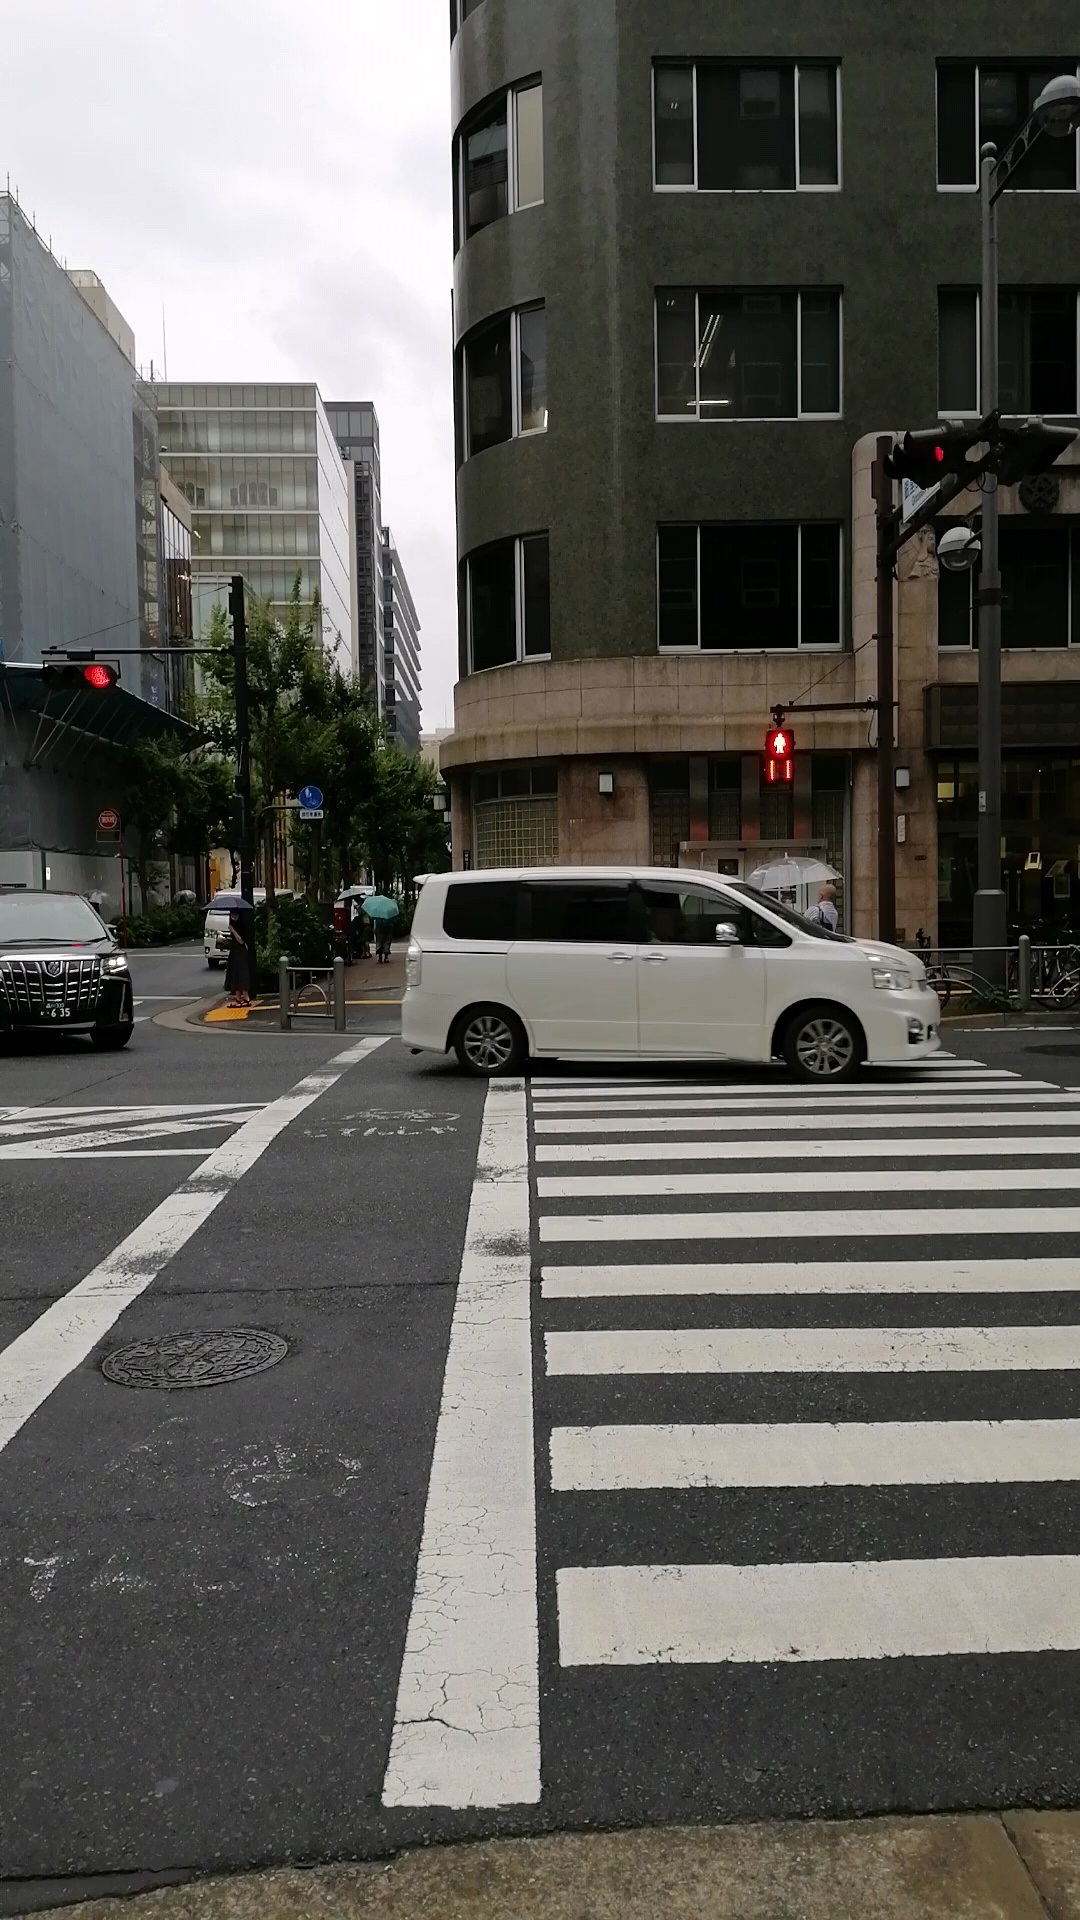red: (766, 731, 793, 786)
